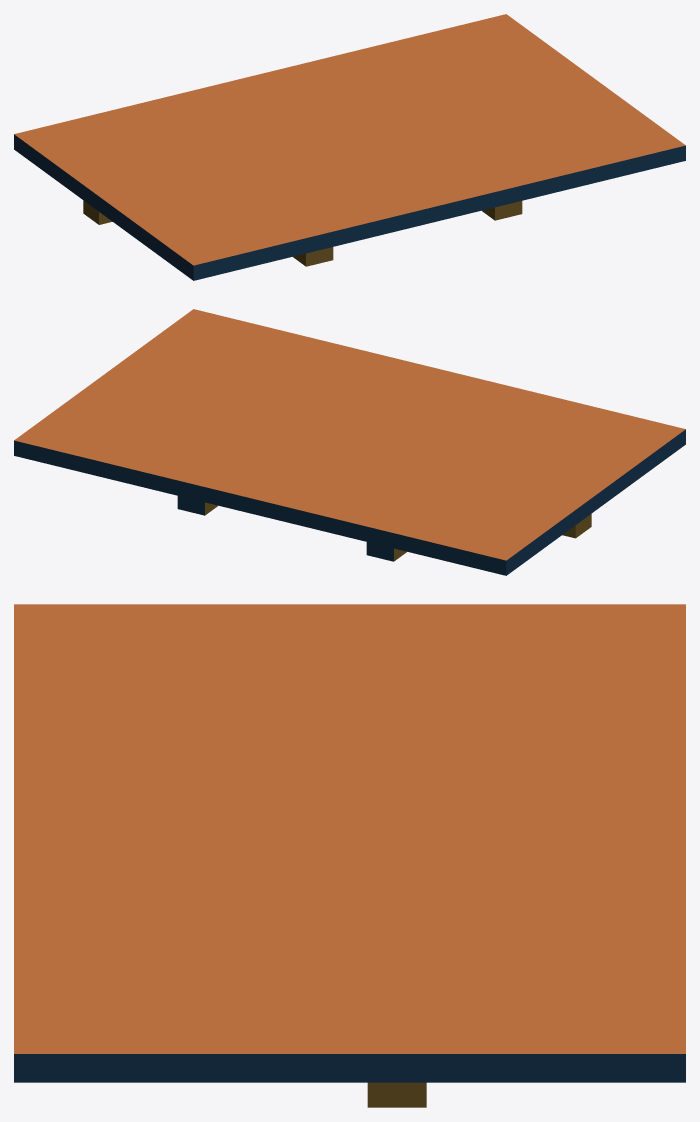
The model's file is SmallFlooring.fbx.
3 renders of one model, top to bottom at view 1: azimuth 30°, elevation 25°; view 2: azimuth 150°, elevation 25°; view 3: azimuth 270°, elevation 25°, orthographic. The views are drawn at different scales.
Parts seen in each view (by area): view 1: polySurface73; view 2: polySurface73; view 3: polySurface73.
Boxes of the visible parts, x1,y1,x2,y2 form: polySurface73: (14, 14, 685, 280); polySurface73: (14, 309, 685, 575); polySurface73: (14, 604, 685, 1107).
Bounding box in the file's own units: 2.72 × 0.151 × 1.72.
